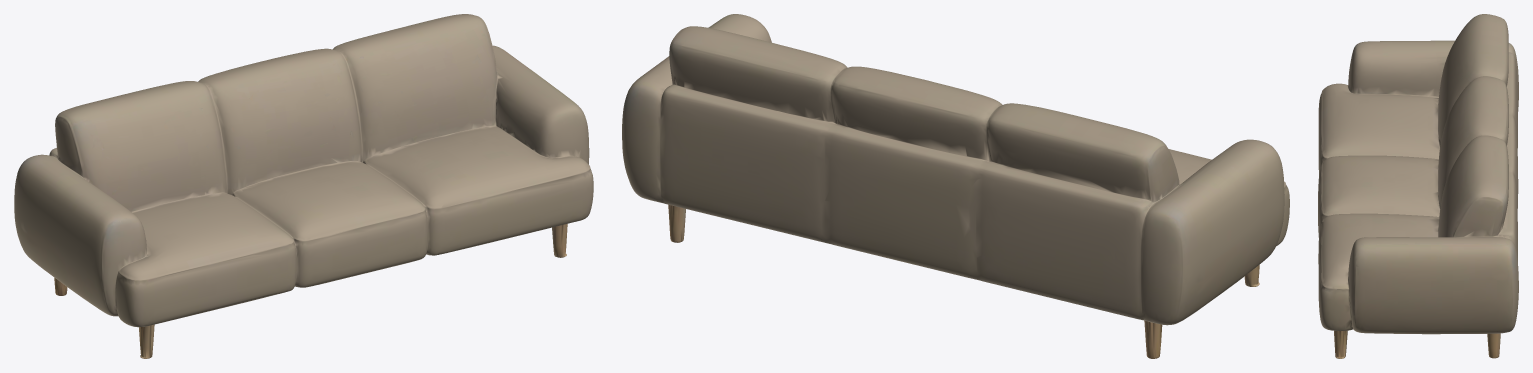
3 renders of one model, left to right at view 1: azimuth 30°, elevation 25°; view 2: azimuth 150°, elevation 25°; view 3: azimuth 270°, elevation 25°, orthographic. The views are drawn at different scales.
Parts seen in each view (by area): view 1: material; view 2: material; view 3: material.
Boxes of the visible parts, x1,y1,x2,y2 form: material: (14,14,593,358); material: (622,14,1289,358); material: (1318,14,1518,358).
Bounding box in the file's own units: 1.14 × 0.4056 × 0.4468.
Materials: 1 (1 with a texture image).
